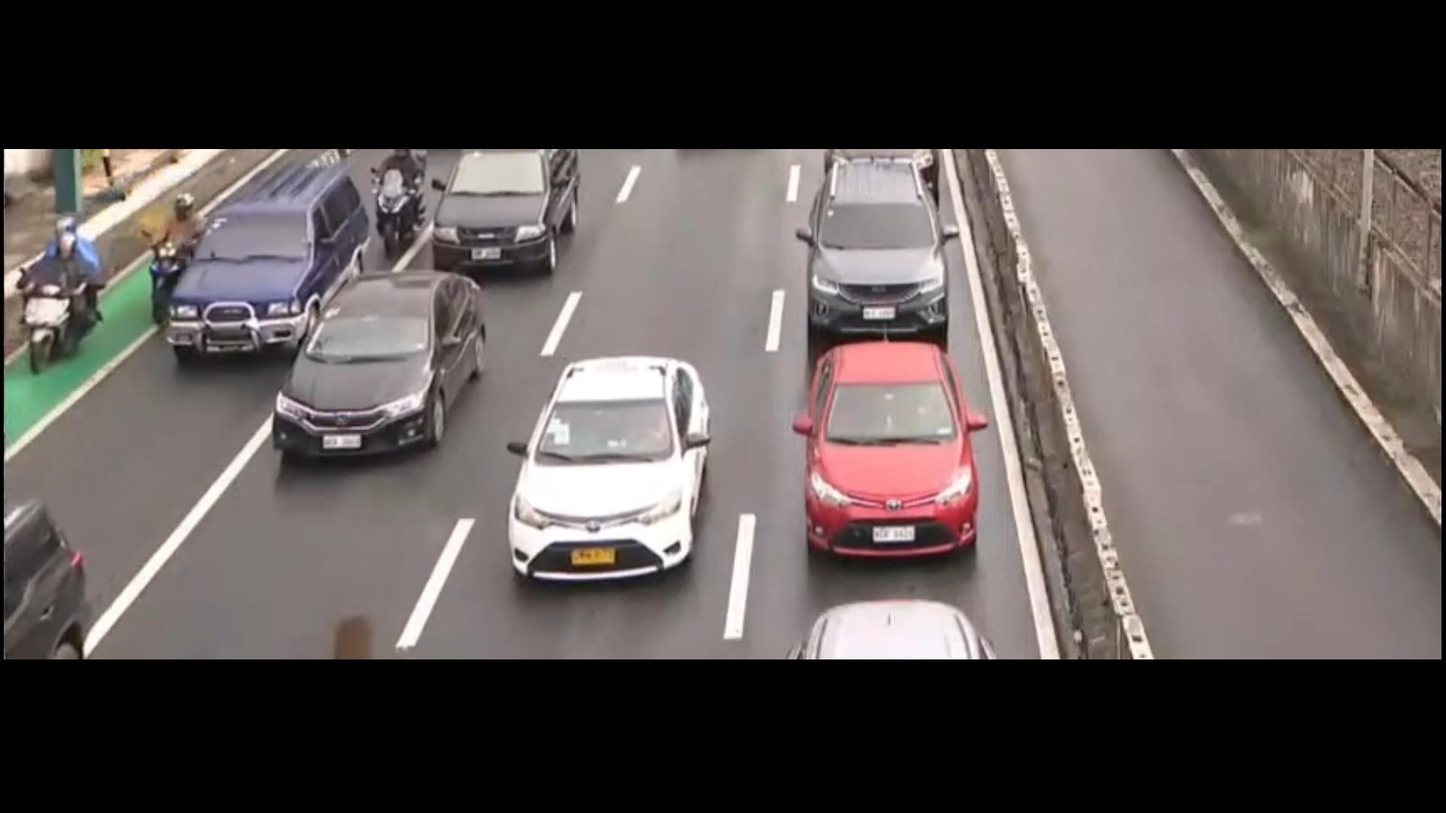Motorcycle: (3, 222, 115, 369), (135, 185, 217, 322), (384, 138, 437, 241)
SUV: (152, 162, 381, 384), (793, 147, 959, 349), (427, 142, 590, 274)
Sedan: (483, 349, 727, 598), (253, 262, 516, 470), (774, 333, 995, 559)
